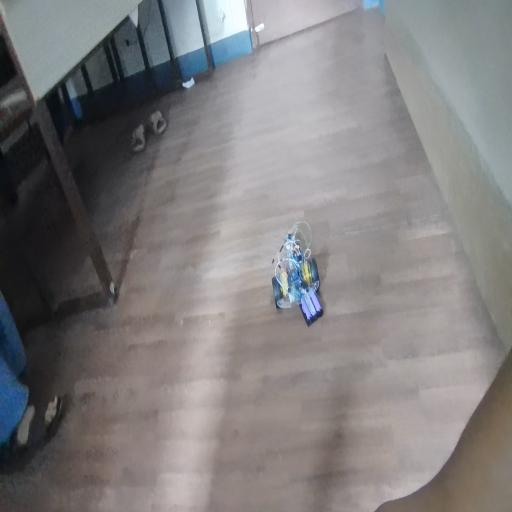car: (268, 218, 332, 332)
